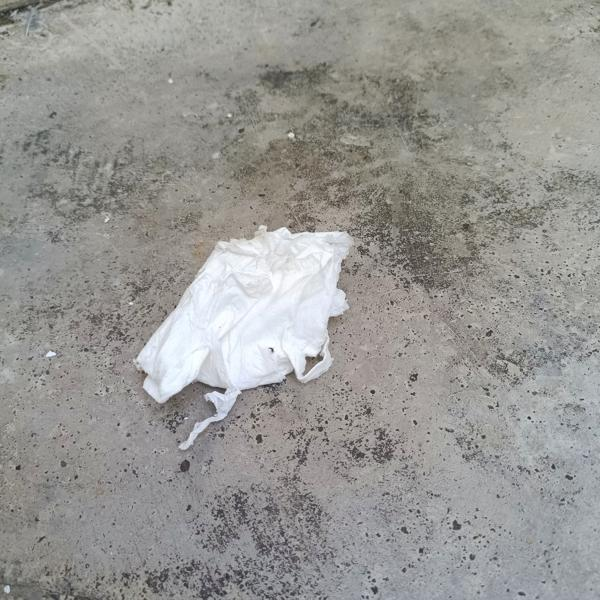Organik: (121, 221, 377, 454)
